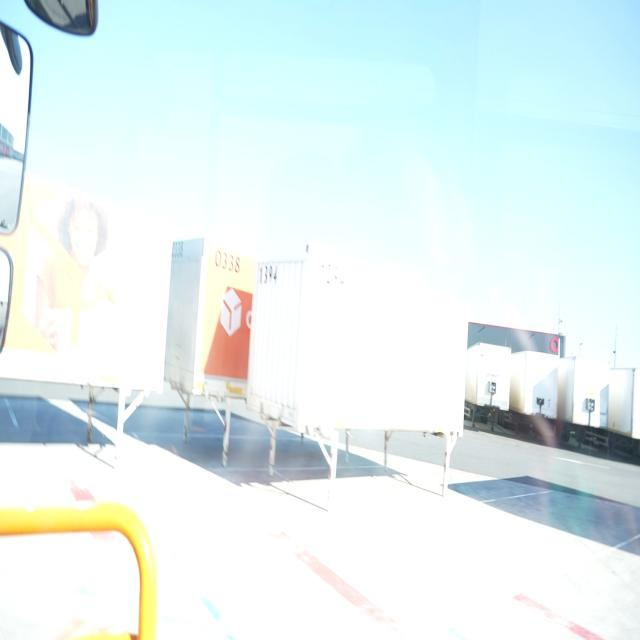Code: (210, 243, 247, 282), (254, 260, 284, 292)
